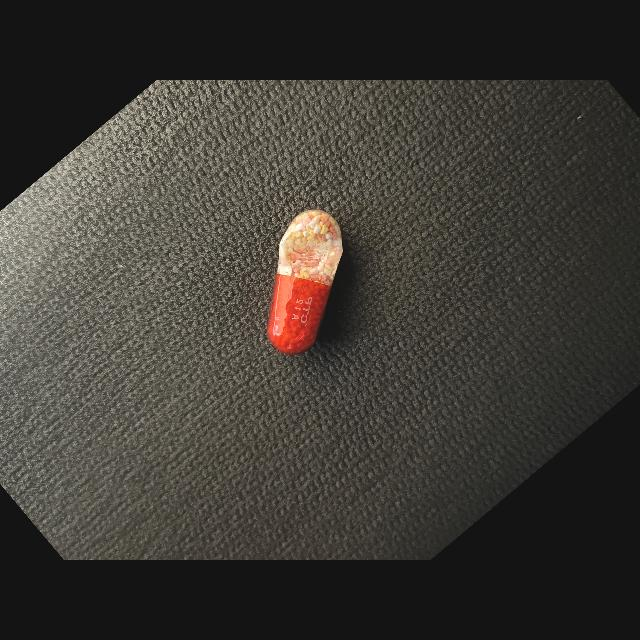Defective Capsule: (267, 209, 342, 354)
